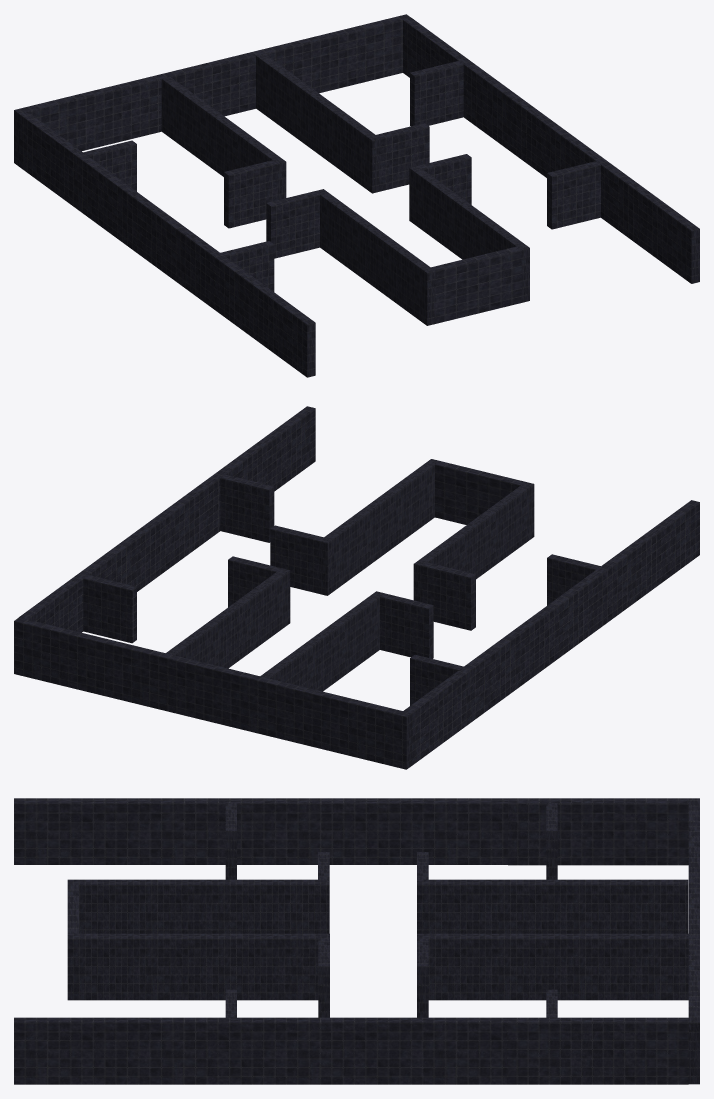
The picture shows the model from 3 angles, top to bottom: view 1: azimuth 30°, elevation 25°; view 2: azimuth 150°, elevation 25°; view 3: azimuth 270°, elevation 25°; orthographic projection. The views are drawn at different scales.
Visible parts, largest first — view 1: polySurface1, polySurface3, polySurface5, pCube39, pCube26, pCube37, pCube35, pCube34, pCube47, pCube42, pCube16, pCube41 (+4 smaller); view 2: polySurface3, polySurface1, polySurface5, pCube35, pCube39, pCube26, pCube37, pCube34, pCube42, pCube47, pCube41, pCube16 (+4 smaller); view 3: polySurface5, polySurface1, pCube39, pCube35, pCube37, pCube26, polySurface3, pCube36, pCube40, pCube38, pCube44, pCube34.
Part boxes in pixels (box(x1,y1,x2,y2)): polySurface1: box(19, 111, 315, 377); polySurface3: box(14, 14, 410, 166); polySurface5: box(403, 18, 699, 283); pCube39: box(256, 53, 380, 193); pCube26: box(315, 189, 435, 325); pCube37: box(161, 77, 286, 199); pCube35: box(409, 166, 529, 302); pCube34: box(431, 246, 521, 323); pCube47: box(547, 161, 600, 229); pCube42: box(410, 61, 463, 126); pCube16: box(266, 191, 319, 258); pCube41: box(224, 160, 277, 228); polySurface3: box(14, 617, 411, 769); polySurface1: box(403, 500, 699, 765); polySurface5: box(19, 406, 315, 632); pCube35: box(319, 459, 439, 595); pCube39: box(166, 568, 290, 668); pCube26: box(413, 482, 534, 602); pCube37: box(260, 591, 384, 691); pCube34: box(435, 461, 525, 524); pCube42: box(83, 575, 136, 643); pCube47: box(220, 474, 274, 542); pCube41: box(380, 593, 433, 658); pCube16: box(422, 562, 475, 630); polySurface5: box(14, 1017, 688, 1084); polySurface1: box(14, 798, 688, 865); pCube39: box(417, 933, 688, 1000); pCube35: box(67, 933, 329, 1000); pCube37: box(417, 879, 688, 933); pCube26: box(67, 879, 329, 933); polySurface3: box(688, 798, 699, 1084); pCube36: box(318, 938, 329, 1017); pCube40: box(417, 938, 428, 1017); pCube38: box(546, 803, 557, 879); pCube44: box(225, 803, 236, 879); pCube34: box(67, 884, 78, 933).
Size of the model in its own units: 114 by 14.79 by 148.
1 material, 1 textured.
